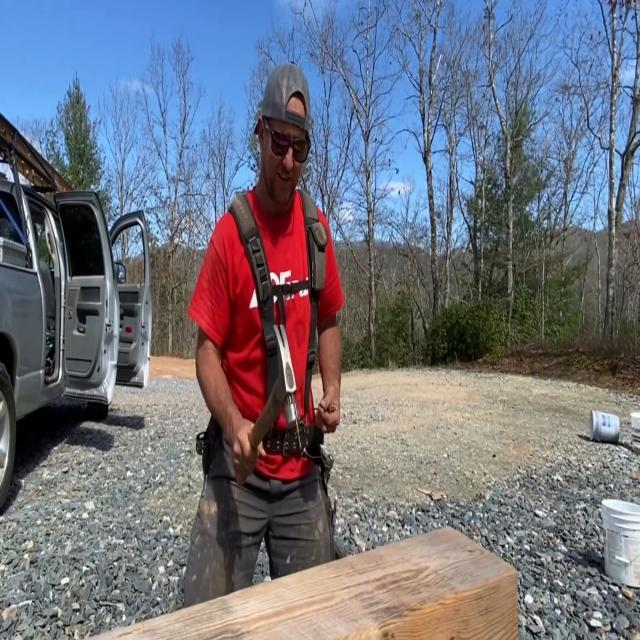hammer: (250, 323, 298, 451)
